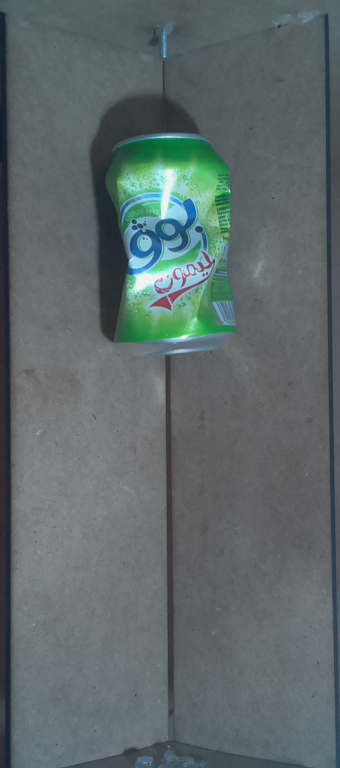Canette: (96, 126, 257, 365)
